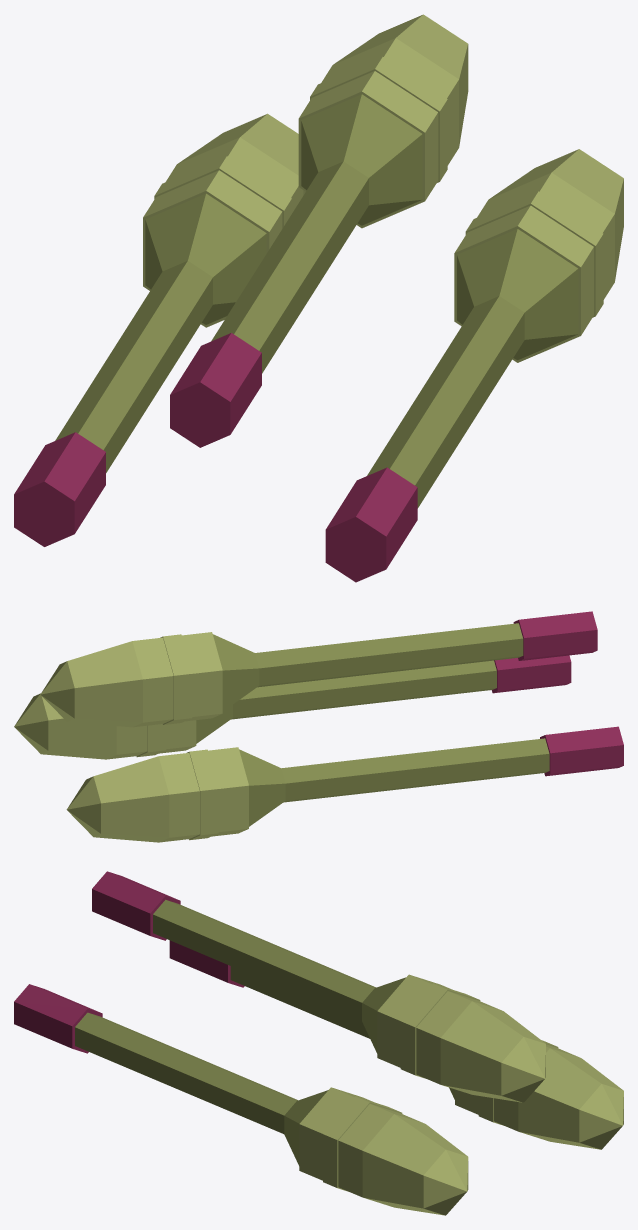
The model's file is ce_ammo2_rpg_thermo_b.obj.
The picture shows the model from 3 angles, top to bottom: view 1: azimuth 30°, elevation 25°; view 2: azimuth 150°, elevation 25°; view 3: azimuth 270°, elevation 25°; orthographic projection. The views are drawn at different scales.
Visible parts, largest first — view 1: ce_ammo2_rpg_thermo_b_9, ce_ammo2_rpg_thermo_b_17, ce_ammo2_rpg_thermo_b_1, ce_ammo2_rpg_thermo_b_10, ce_ammo2_rpg_thermo_b_18, ce_ammo2_rpg_thermo_b_2, ce_ammo2_rpg_thermo_b_8, ce_ammo2_rpg_thermo_b_0, ce_ammo2_rpg_thermo_b_16, ce_ammo2_rpg_thermo_b_19, ce_ammo2_rpg_thermo_b_11, ce_ammo2_rpg_thermo_b_3 (+9 smaller); view 2: ce_ammo2_rpg_thermo_b_1, ce_ammo2_rpg_thermo_b_17, ce_ammo2_rpg_thermo_b_9, ce_ammo2_rpg_thermo_b_6, ce_ammo2_rpg_thermo_b_22, ce_ammo2_rpg_thermo_b_16, ce_ammo2_rpg_thermo_b_0, ce_ammo2_rpg_thermo_b_21, ce_ammo2_rpg_thermo_b_5, ce_ammo2_rpg_thermo_b_19, ce_ammo2_rpg_thermo_b_3, ce_ammo2_rpg_thermo_b_14 (+12 smaller); view 3: ce_ammo2_rpg_thermo_b_9, ce_ammo2_rpg_thermo_b_17, ce_ammo2_rpg_thermo_b_14, ce_ammo2_rpg_thermo_b_22, ce_ammo2_rpg_thermo_b_6, ce_ammo2_rpg_thermo_b_8, ce_ammo2_rpg_thermo_b_16, ce_ammo2_rpg_thermo_b_13, ce_ammo2_rpg_thermo_b_21, ce_ammo2_rpg_thermo_b_11, ce_ammo2_rpg_thermo_b_19, ce_ammo2_rpg_thermo_b_15 (+9 smaller).
Part boxes in pixels (x1,y1,x2,y2): ce_ammo2_rpg_thermo_b_9: (367, 296, 524, 508); ce_ammo2_rpg_thermo_b_17: (211, 161, 368, 373); ce_ammo2_rpg_thermo_b_1: (55, 261, 212, 472); ce_ammo2_rpg_thermo_b_10: (457, 229, 578, 360); ce_ammo2_rpg_thermo_b_18: (301, 94, 422, 225); ce_ammo2_rpg_thermo_b_2: (145, 193, 266, 324); ce_ammo2_rpg_thermo_b_8: (325, 467, 417, 582); ce_ammo2_rpg_thermo_b_0: (14, 432, 105, 546); ce_ammo2_rpg_thermo_b_16: (170, 333, 261, 447); ce_ammo2_rpg_thermo_b_19: (298, 71, 438, 228); ce_ammo2_rpg_thermo_b_11: (454, 205, 593, 362); ce_ammo2_rpg_thermo_b_3: (143, 170, 282, 327); ce_ammo2_rpg_thermo_b_1: (281, 738, 549, 802); ce_ammo2_rpg_thermo_b_17: (255, 623, 523, 687); ce_ammo2_rpg_thermo_b_9: (231, 660, 496, 719); ce_ammo2_rpg_thermo_b_6: (93, 756, 169, 842); ce_ammo2_rpg_thermo_b_22: (67, 641, 142, 727); ce_ammo2_rpg_thermo_b_16: (513, 611, 597, 660); ce_ammo2_rpg_thermo_b_0: (540, 726, 623, 776); ce_ammo2_rpg_thermo_b_21: (132, 637, 173, 727); ce_ammo2_rpg_thermo_b_5: (158, 753, 199, 842); ce_ammo2_rpg_thermo_b_19: (181, 632, 222, 721); ce_ammo2_rpg_thermo_b_3: (208, 747, 248, 836); ce_ammo2_rpg_thermo_b_14: (41, 697, 116, 759); ce_ammo2_rpg_thermo_b_9: (75, 1012, 297, 1133); ce_ammo2_rpg_thermo_b_17: (153, 899, 375, 1021); ce_ammo2_rpg_thermo_b_14: (362, 1114, 467, 1215); ce_ammo2_rpg_thermo_b_22: (440, 1001, 545, 1102); ce_ammo2_rpg_thermo_b_6: (518, 1048, 623, 1149); ce_ammo2_rpg_thermo_b_8: (14, 984, 102, 1053); ce_ammo2_rpg_thermo_b_16: (92, 871, 180, 940); ce_ammo2_rpg_thermo_b_13: (338, 1104, 424, 1197); ce_ammo2_rpg_thermo_b_21: (416, 991, 501, 1084); ce_ammo2_rpg_thermo_b_11: (299, 1087, 372, 1180); ce_ammo2_rpg_thermo_b_19: (377, 974, 450, 1067); ce_ammo2_rpg_thermo_b_15: (423, 1149, 468, 1215).
Bounding box in the file's own units: 0.8861 × 0.282 × 0.8861.
